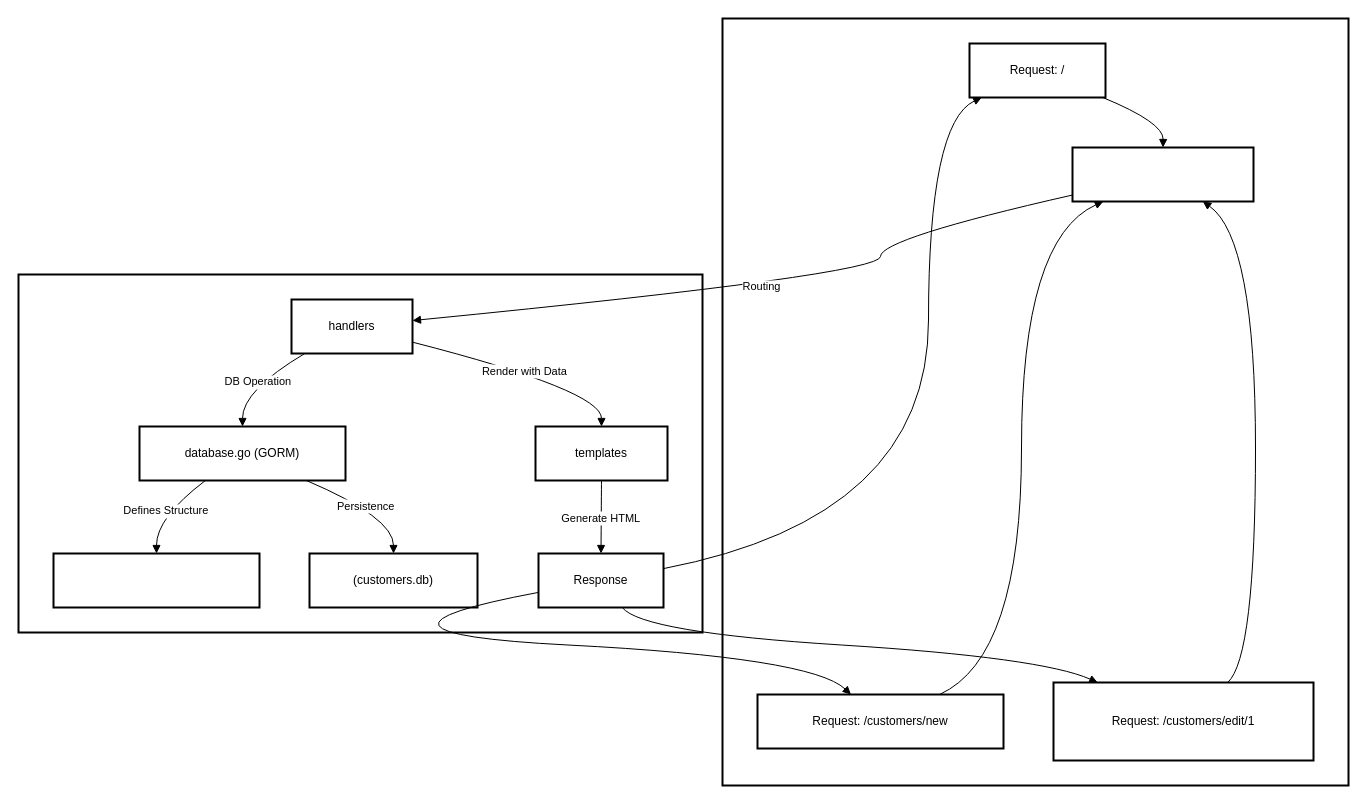
This 1366x803 diagram has some shape labels left out. The box of each missing label's shape, as (x1, y1, x2, y2) in pixels:
Application: (17, 273, 703, 633)
Browser: (721, 17, 1349, 786)
main.go (Router): (1071, 146, 1254, 202)
models/customer.go: (52, 552, 260, 608)
